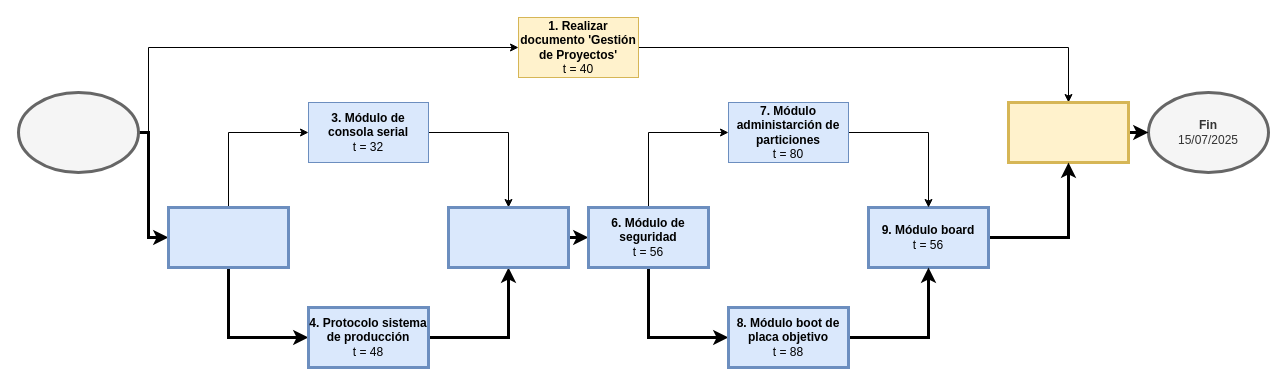
The diagram is 1287 pixels wide and 386 high, and some of its shapes have lost their labels. The shapes that lost their labels are listed below. From the top down, each one's box as (x1, y1, x2, y2) in pixels, then its label:
(16, 90, 140, 174): Inicio 20/08/2024
(1006, 100, 1130, 164): 10. Documento memoría técnica t = 96
(166, 206, 290, 268): 2. Familiarizarse con el SoC t = 84
(446, 206, 570, 268): 5. Driver memoria externa t = 44
